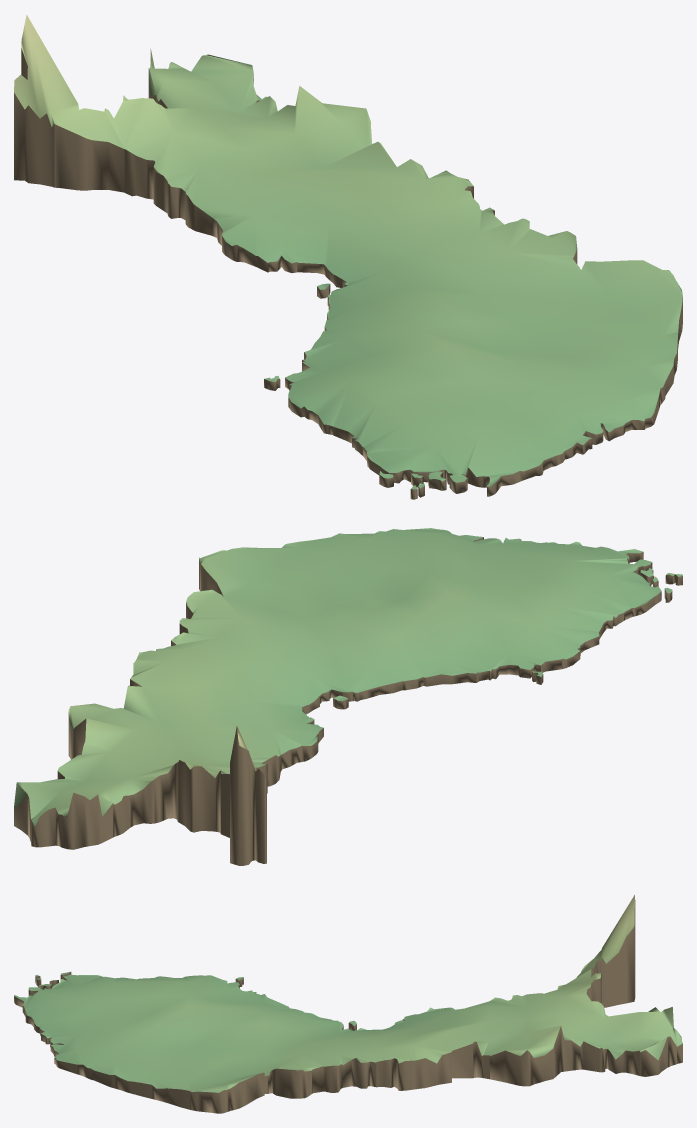
The model's file is FIN.glb.
The picture shows the model from 3 angles, top to bottom: view 1: azimuth 30°, elevation 25°; view 2: azimuth 150°, elevation 25°; view 3: azimuth 270°, elevation 25°; orthographic projection. The views are drawn at different scales.
Parts seen in each view (by area): view 1: FIN; view 2: FIN; view 3: FIN.
Boxes of the visible parts, <box> form: FIN: <box>14,15,682,499</box>; FIN: <box>14,528,682,865</box>; FIN: <box>14,895,682,1113</box>.
Size of the model in its own units: 0.8567 by 0.3104 by 1.8.
